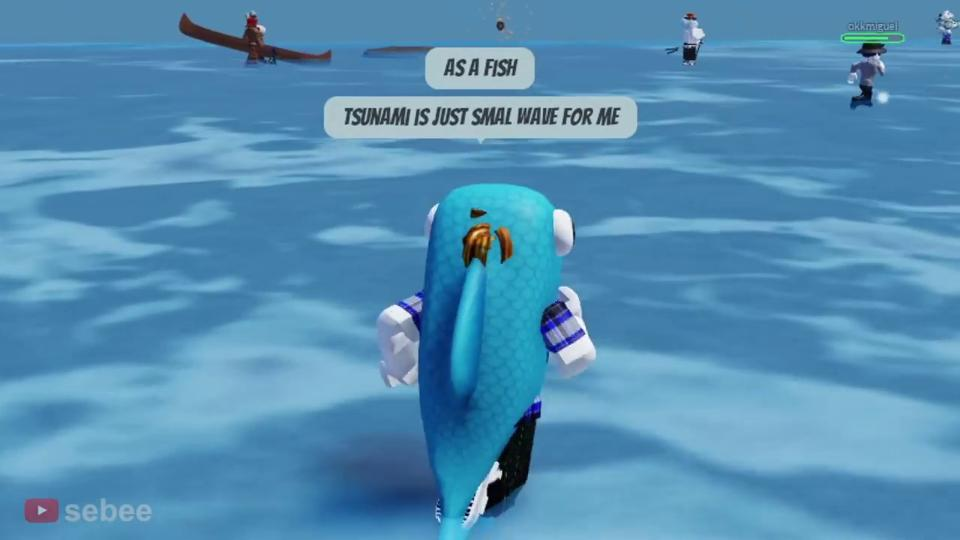Character: (376, 183, 597, 540), (847, 42, 886, 109), (665, 11, 705, 66), (242, 10, 277, 66)
